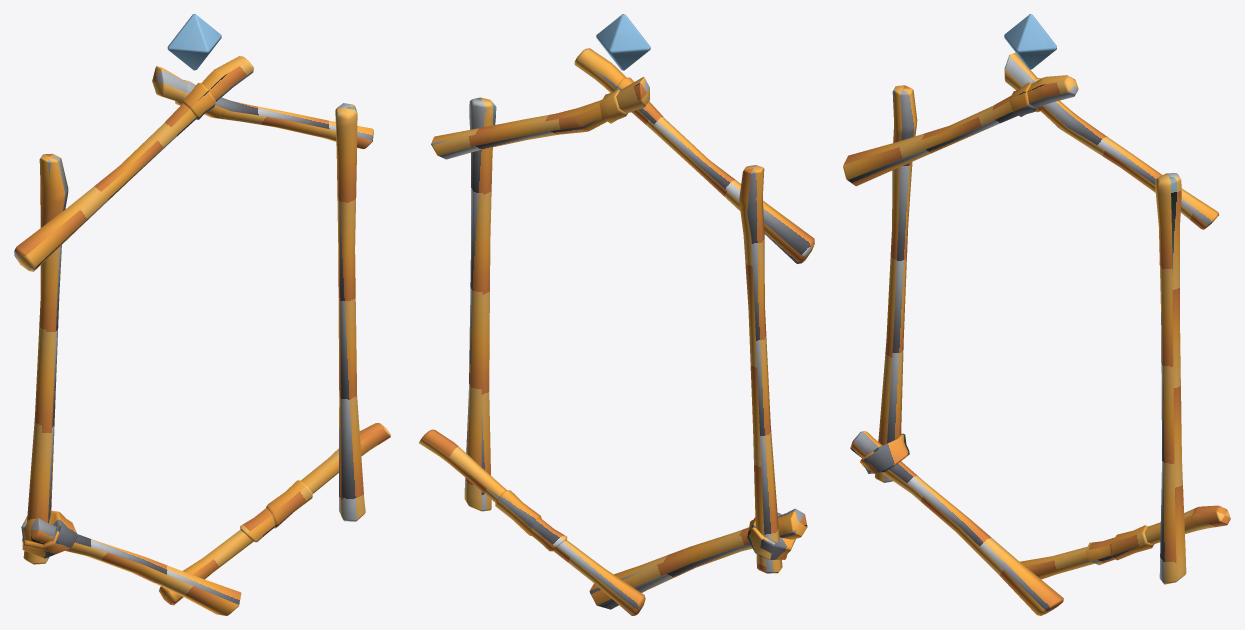
The model's file is CharSkyKid_Prop_AP10Hoop_02.glb.
3 views of the same model, side by side, from view 1: azimuth 30°, elevation 25°; view 2: azimuth 150°, elevation 25°; view 3: azimuth 330°, elevation 25° (orthographic). The views are drawn at different scales.
Parts seen in each view (by area): view 1: CharSkyKid_Prop_AP10Hoop_02; view 2: CharSkyKid_Prop_AP10Hoop_02; view 3: CharSkyKid_Prop_AP10Hoop_02.
Boxes of the visible parts, x1=… form: CharSkyKid_Prop_AP10Hoop_02: x1=14, y1=14, x2=390, y2=615; CharSkyKid_Prop_AP10Hoop_02: x1=419, y1=14, x2=814, y2=615; CharSkyKid_Prop_AP10Hoop_02: x1=843, y1=14, x2=1230, y2=615.
Size of the model in its own units: 2 by 3.01 by 0.2786.
Materials: 1 (1 with a texture image).
